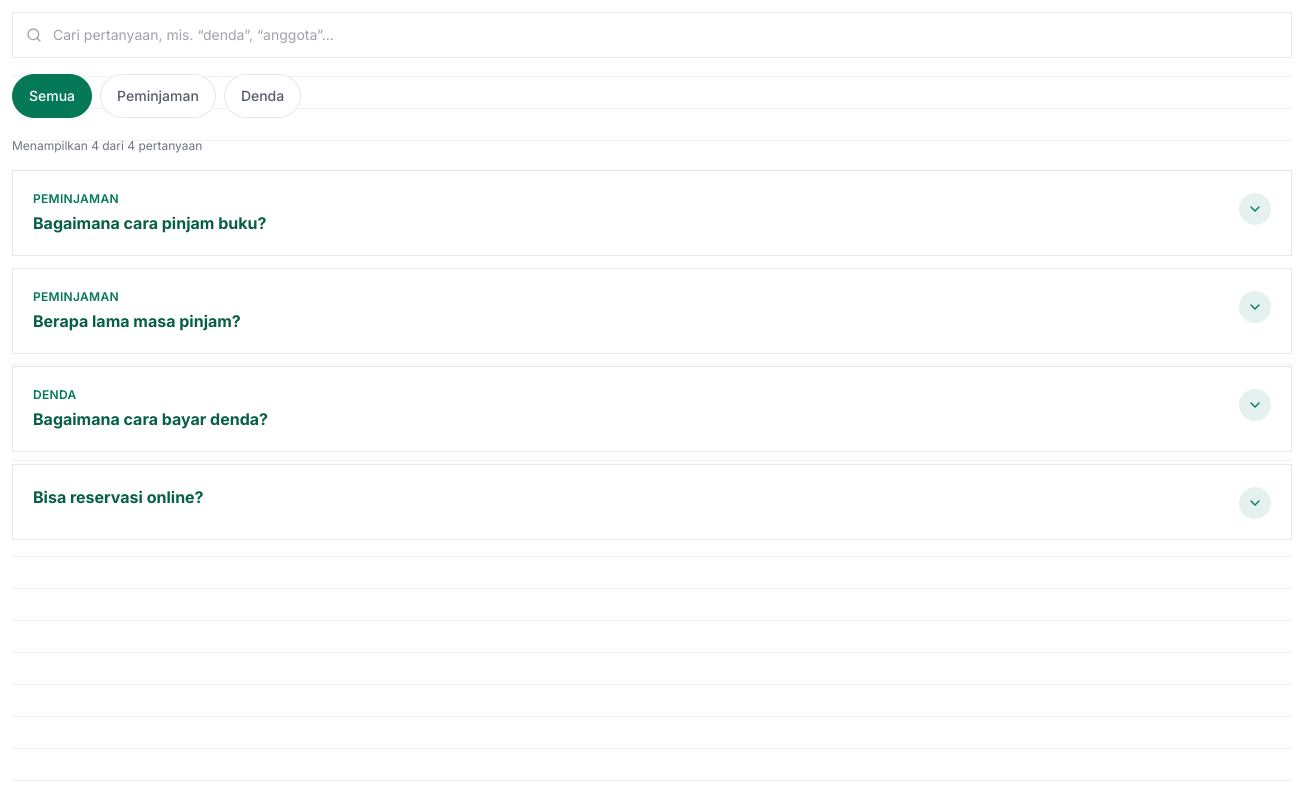
Test: FaqAccordion › has accessible markup: aria-expanded, aria-controls, role region
The width and height of the screenshot is (1304, 812).
Click the heading "Peminjaman Bagaimana cara pinjam buku?" at (76, 198), box [33,191,1271,233]
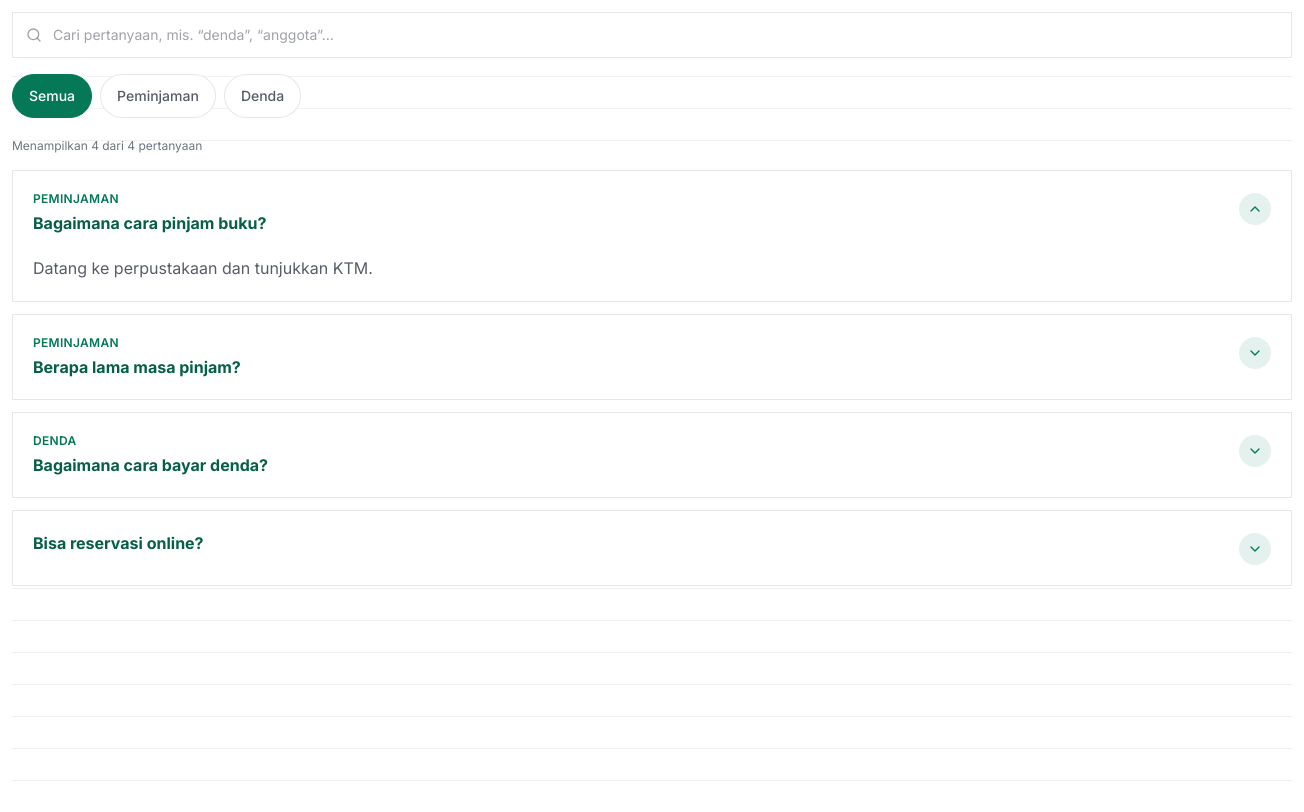
Check: the heading "Peminjaman Bagaimana cara pinjam buku?" is expanded, box [33,191,1271,233]
Check: the text "Datang ke perpustakaan dan tunjukkan KTM." is shown, box [33,258,373,278]
